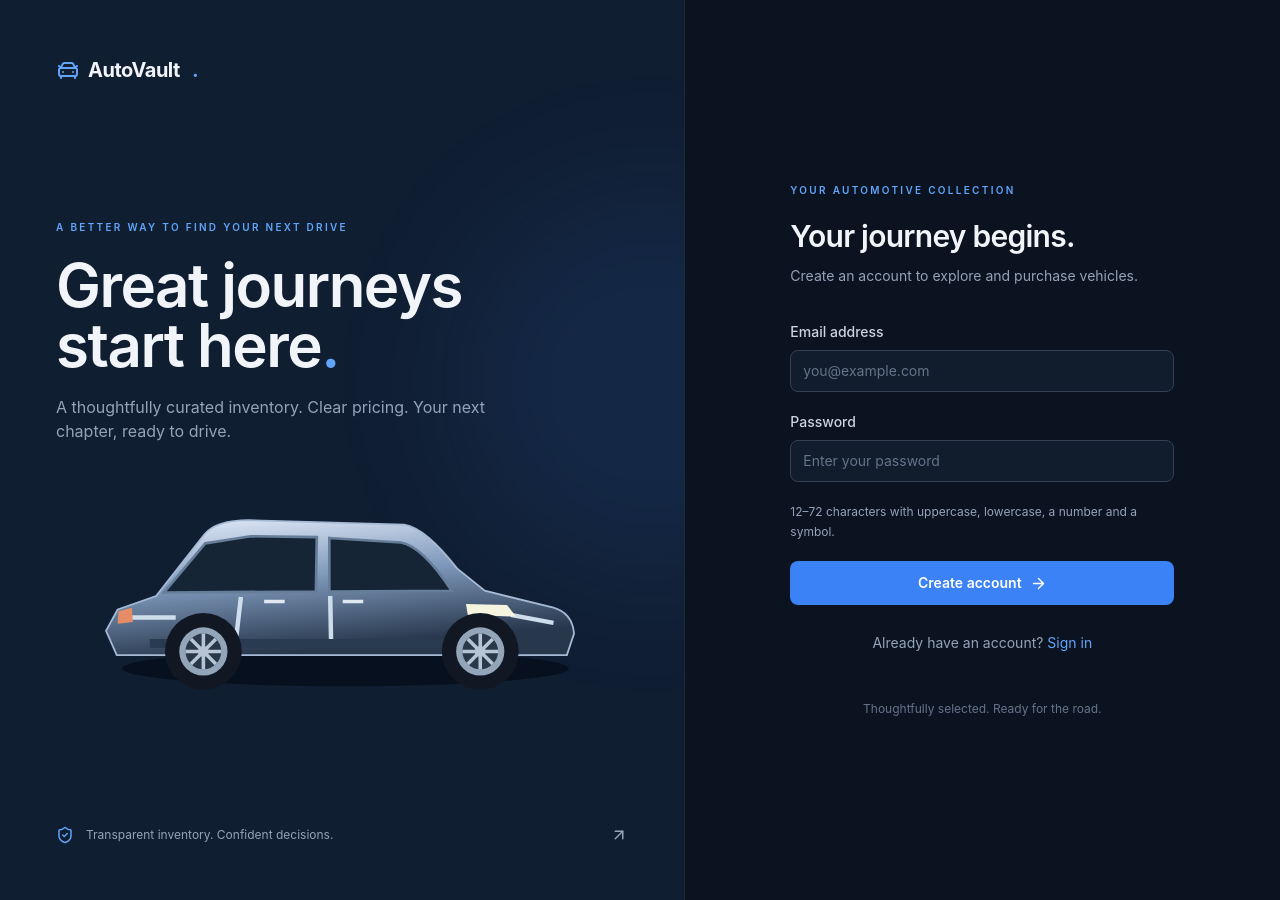
validates registration password
In the field labelled "Email address": (982, 371) [790,350,1174,392], type "a@example.com"
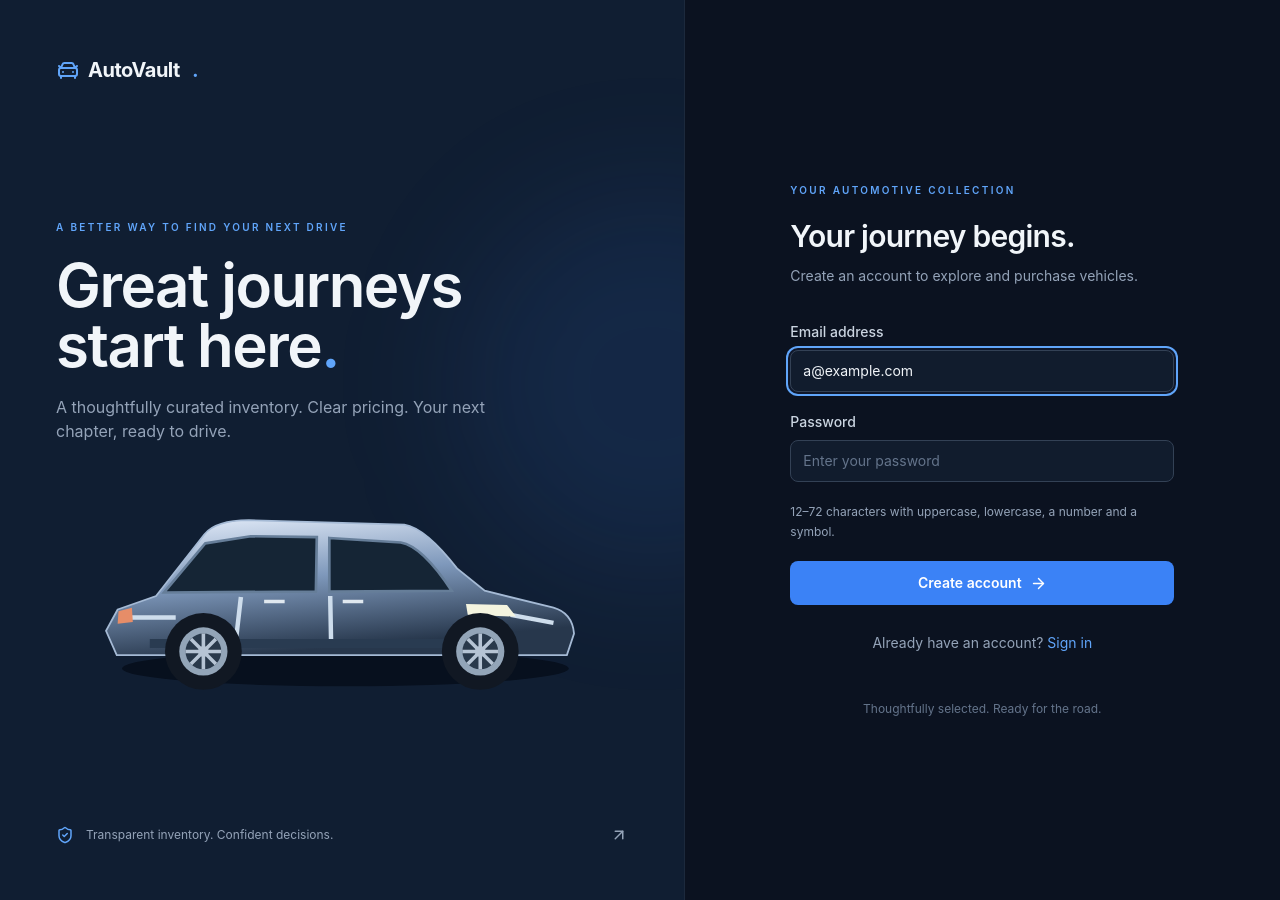
In the password field labelled "Password": (982, 461) [790,440,1174,482], type "weak"
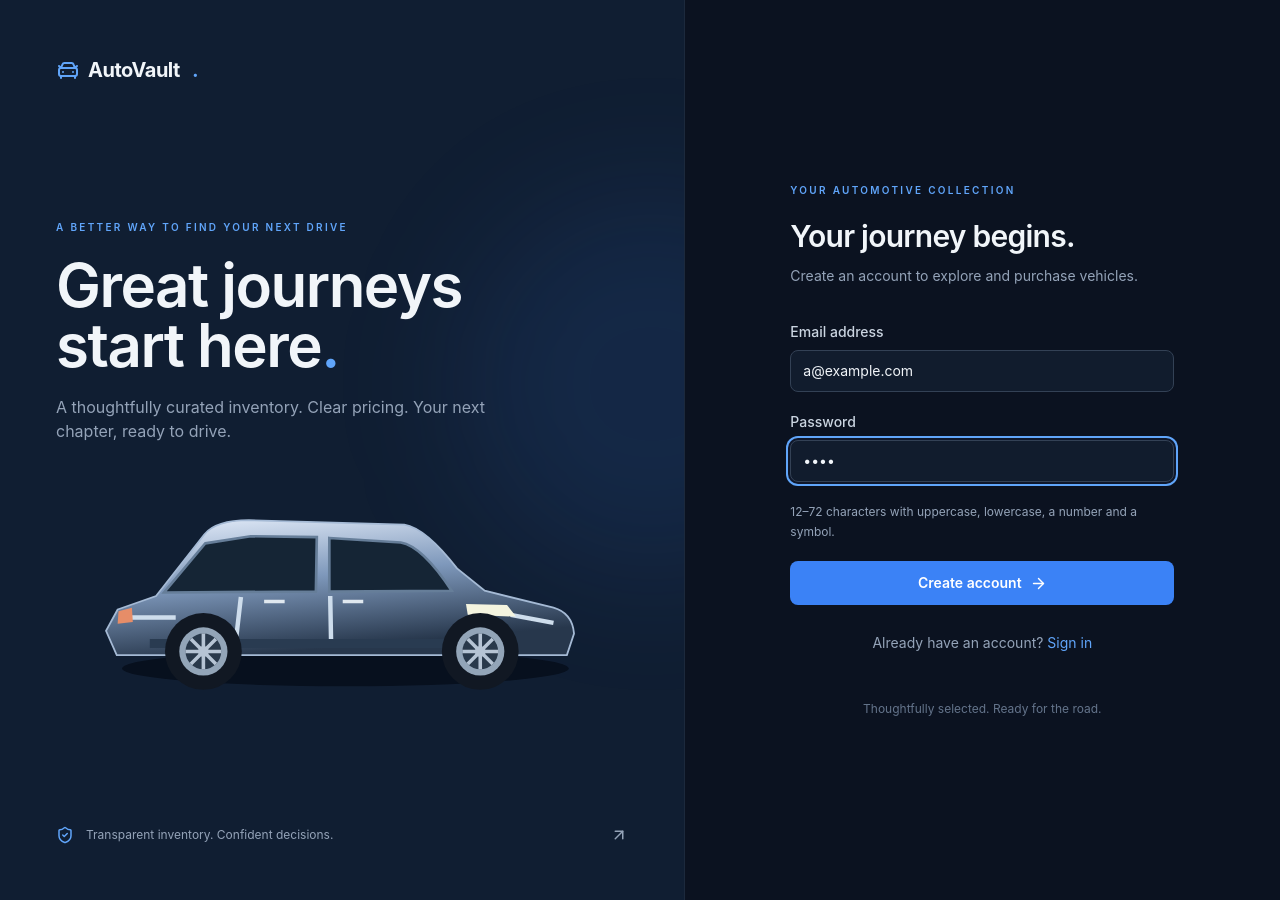
Click the button "Create account": (982, 583) [790,561,1174,605]
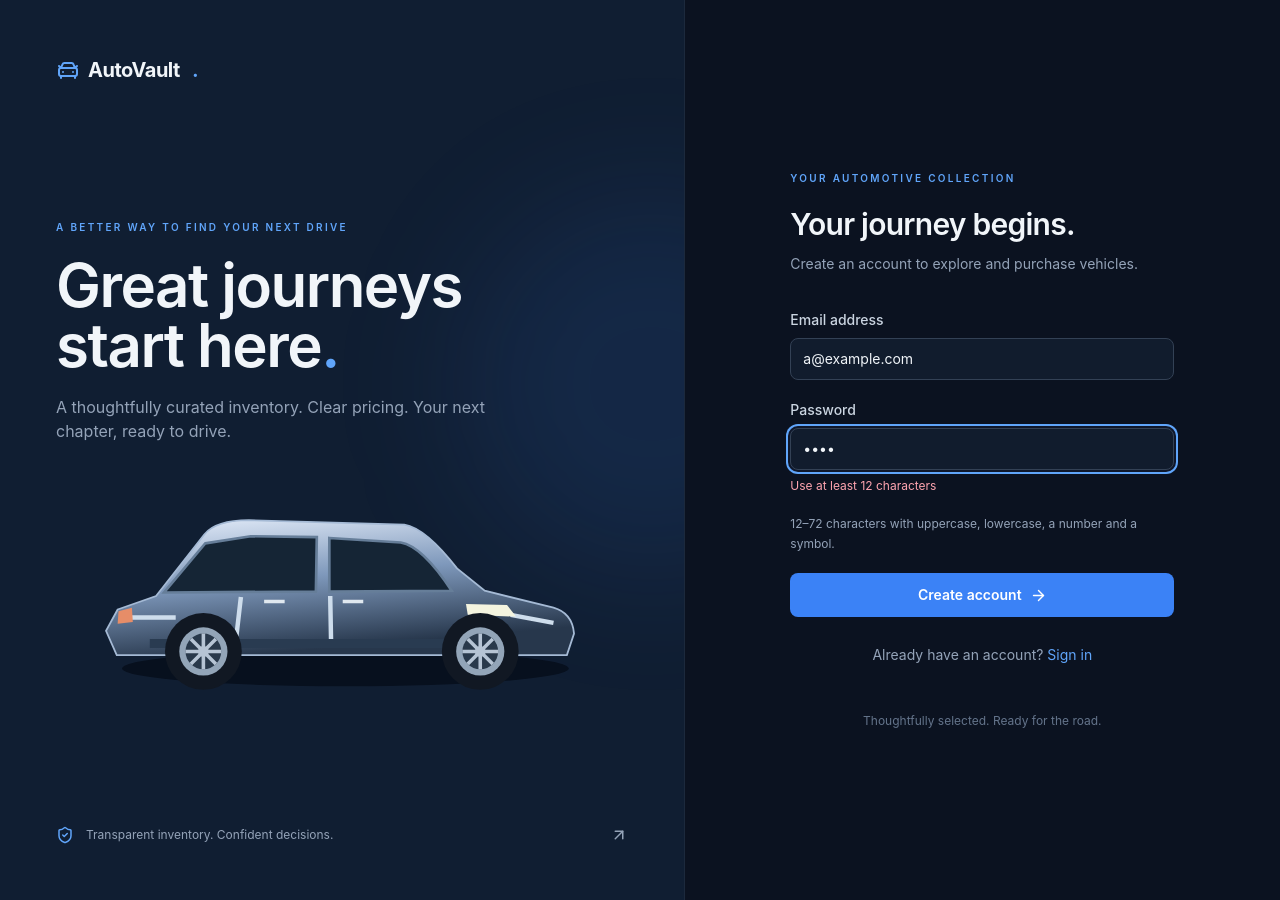
Now the text "Use at least 12 characters" is shown, box [790,478,936,493]
